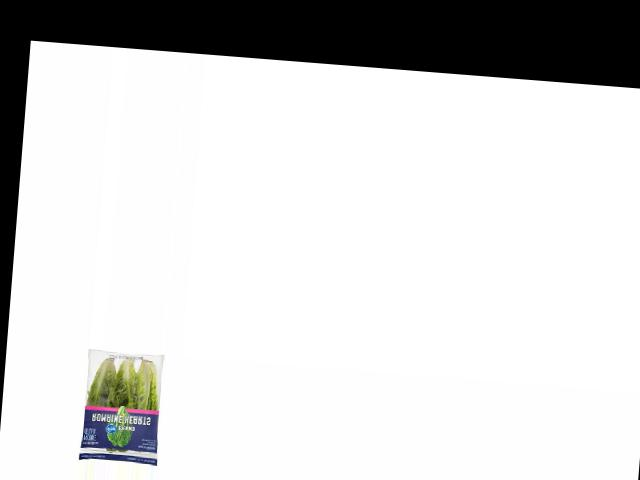lettuce: (76, 351, 168, 463)
